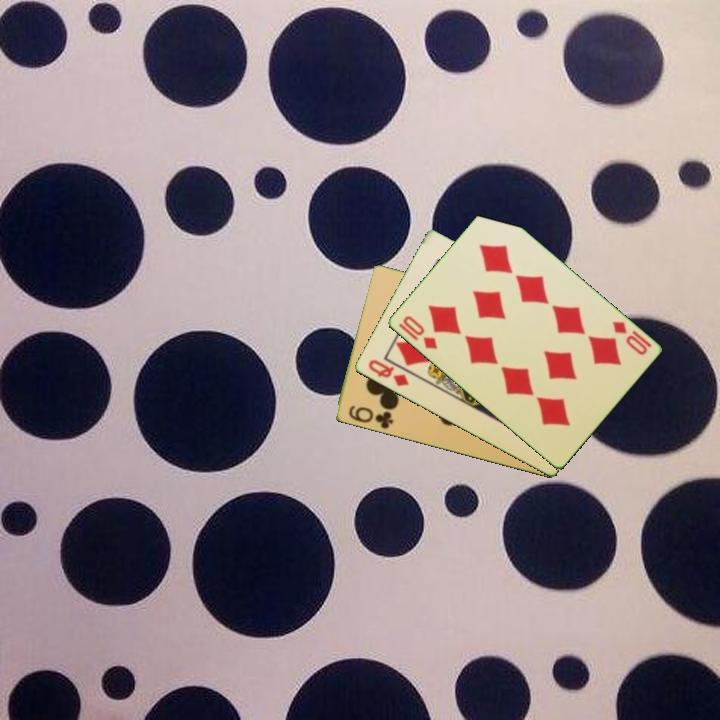10d: (608, 318, 650, 358), (399, 312, 440, 352)
6c: (344, 402, 396, 432)
Qd: (364, 356, 412, 390)
